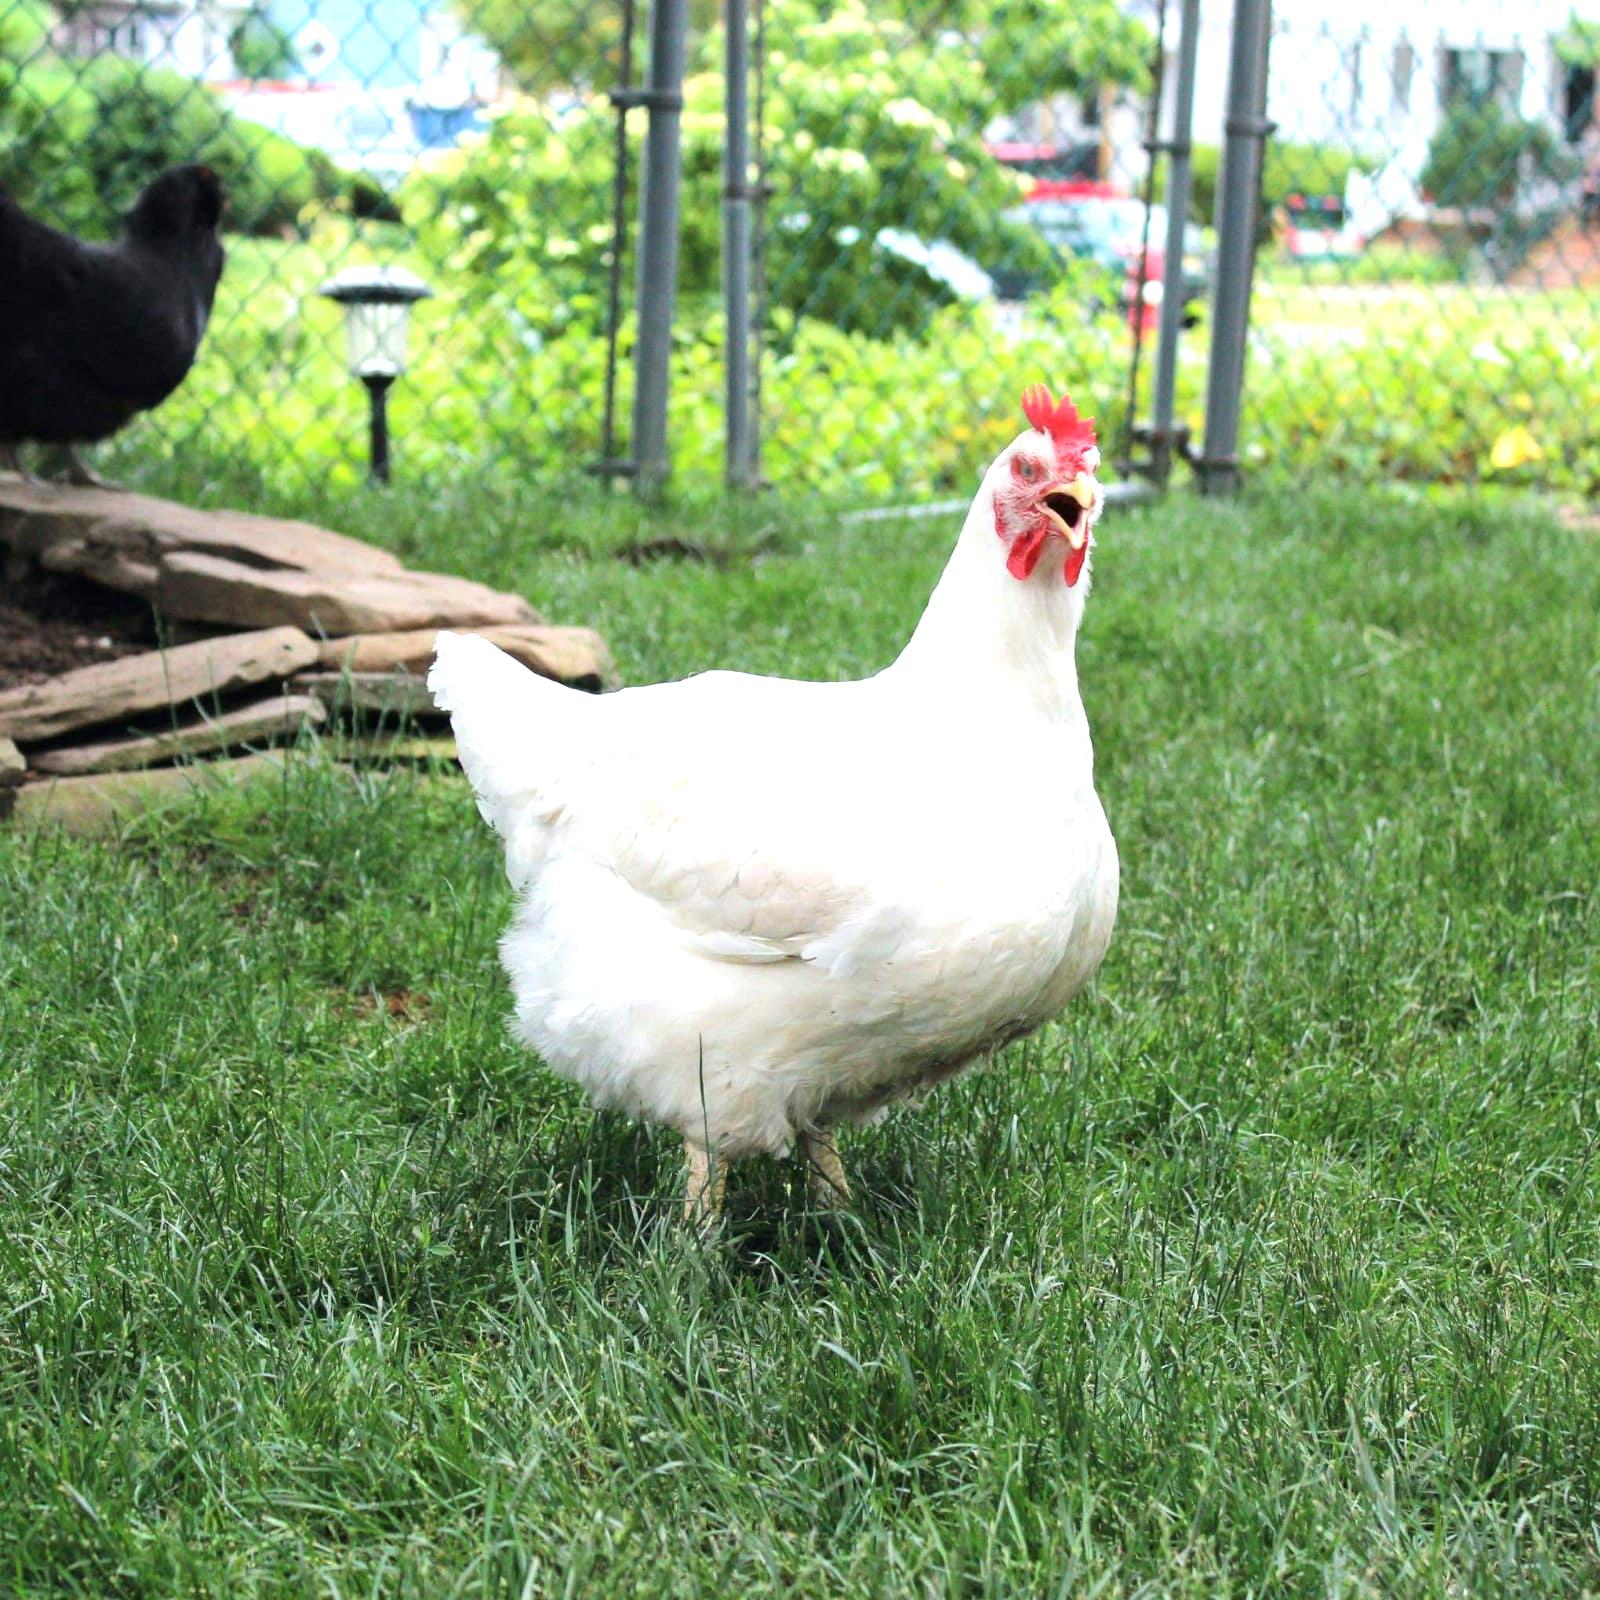Healthy: (419, 355, 1152, 1292)
